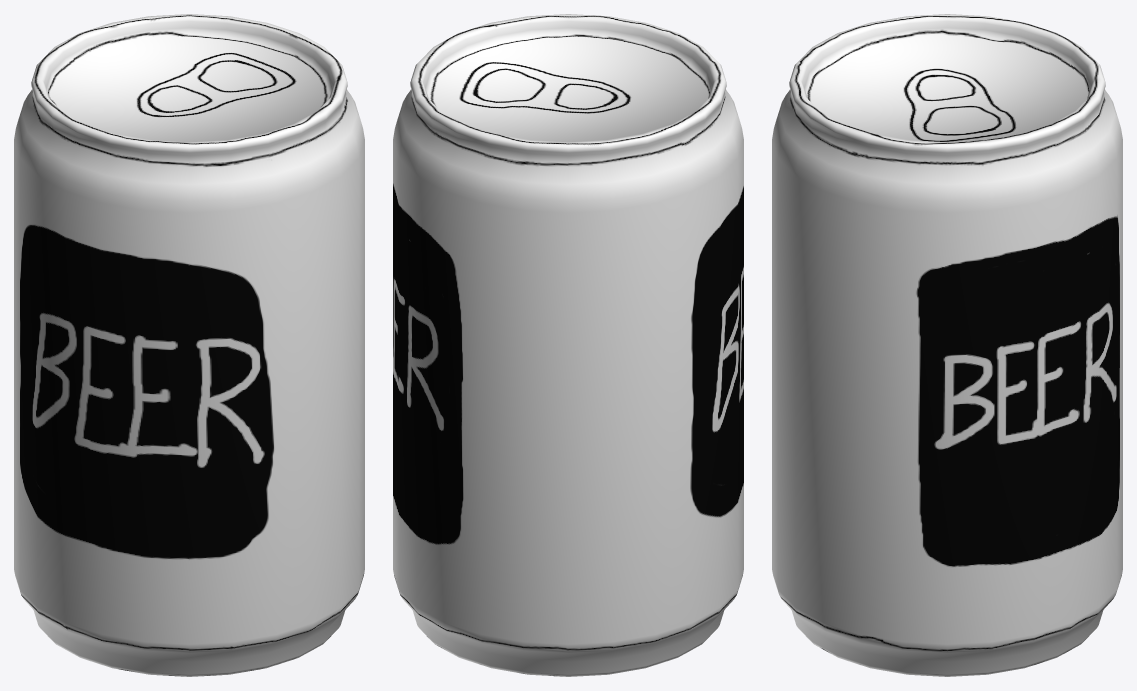
File: Beer.fbx
The picture shows the model from 3 angles, left to right: view 1: azimuth 30°, elevation 25°; view 2: azimuth 150°, elevation 25°; view 3: azimuth 270°, elevation 25°; orthographic projection.
Parts seen in each view (by area): view 1: Beer; view 2: Beer; view 3: Beer.
Boxes of the visible parts, box(x1,y1,x2,y2) form: Beer: box(14, 14, 364, 676); Beer: box(393, 14, 743, 676); Beer: box(772, 14, 1122, 676).
Bounding box in the file's own units: 0.8028 × 1.35 × 0.8028.
